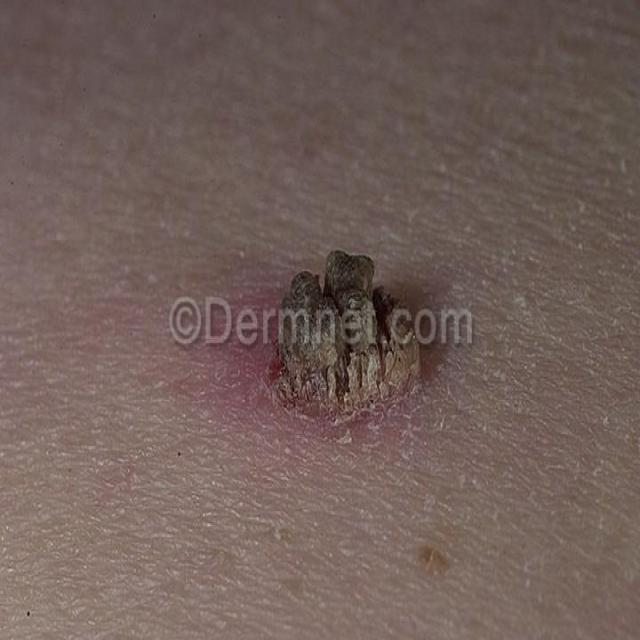Eczema: (205, 250, 440, 461)
